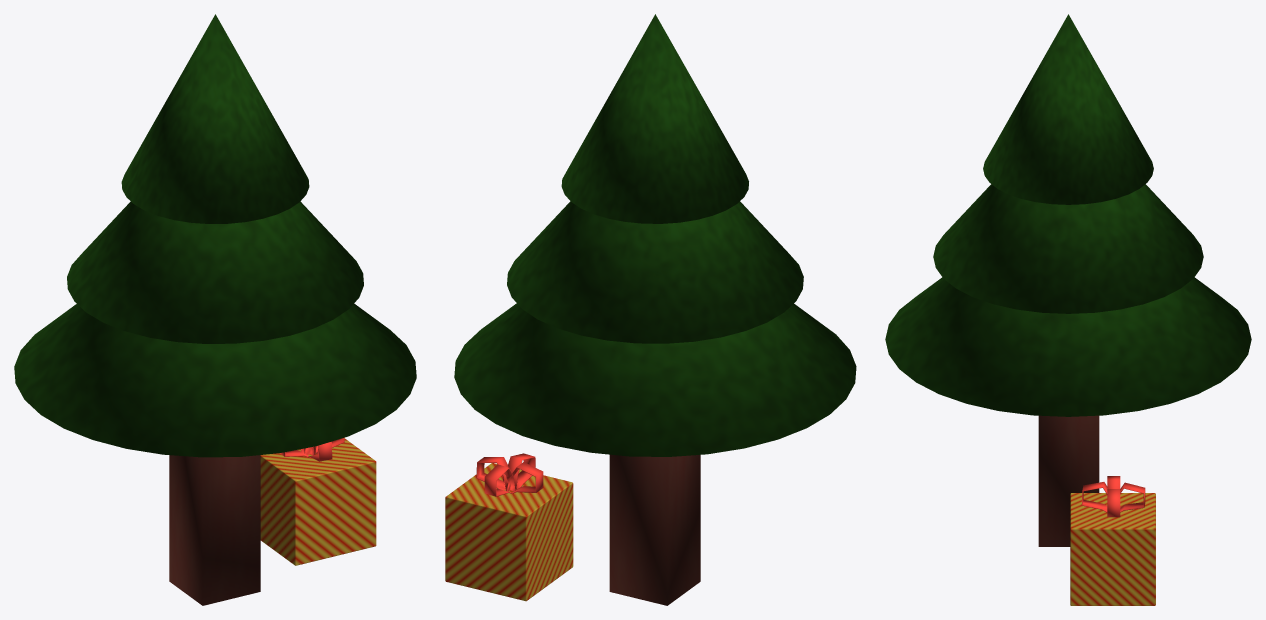
Rendered from tree.fbx.
The picture shows the model from 3 angles, left to right: view 1: azimuth 30°, elevation 25°; view 2: azimuth 150°, elevation 25°; view 3: azimuth 270°, elevation 25°; orthographic projection. The views are drawn at different scales.
Parts seen in each view (by area): view 1: Cone, Cube, Cube.001; view 2: Cone, Cube.001, Cube, Plane.001, Plane; view 3: Cone, Cube.001, Cube, Plane.001, Plane.
Boxes of the visible parts, bbox=[...] form: Cone: bbox=[14, 14, 416, 457]; Cube: bbox=[169, 455, 260, 605]; Cube.001: bbox=[260, 438, 376, 565]; Cone: bbox=[454, 14, 856, 456]; Cube.001: bbox=[445, 463, 573, 601]; Cube: bbox=[609, 454, 700, 605]; Plane.001: bbox=[484, 453, 535, 496]; Plane: bbox=[476, 457, 543, 493]; Cone: bbox=[885, 14, 1251, 416]; Cube.001: bbox=[1070, 493, 1155, 605]; Cube: bbox=[1038, 415, 1099, 546]; Plane.001: bbox=[1081, 482, 1145, 512]; Plane: bbox=[1107, 476, 1120, 517].
Bounding box in the file's own units: 2.15 × 3.37 × 2.15.
4 materials, 4 textured.
